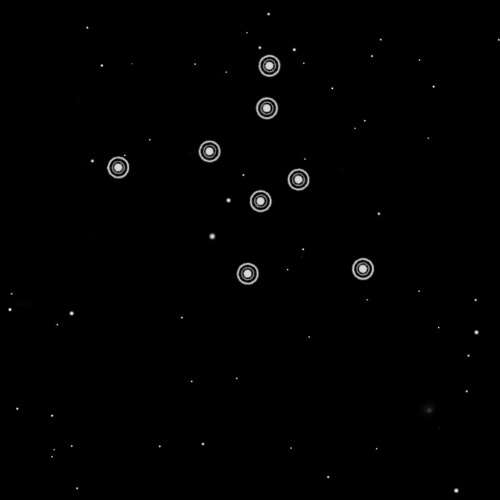hercules: (101, 52, 380, 292)
